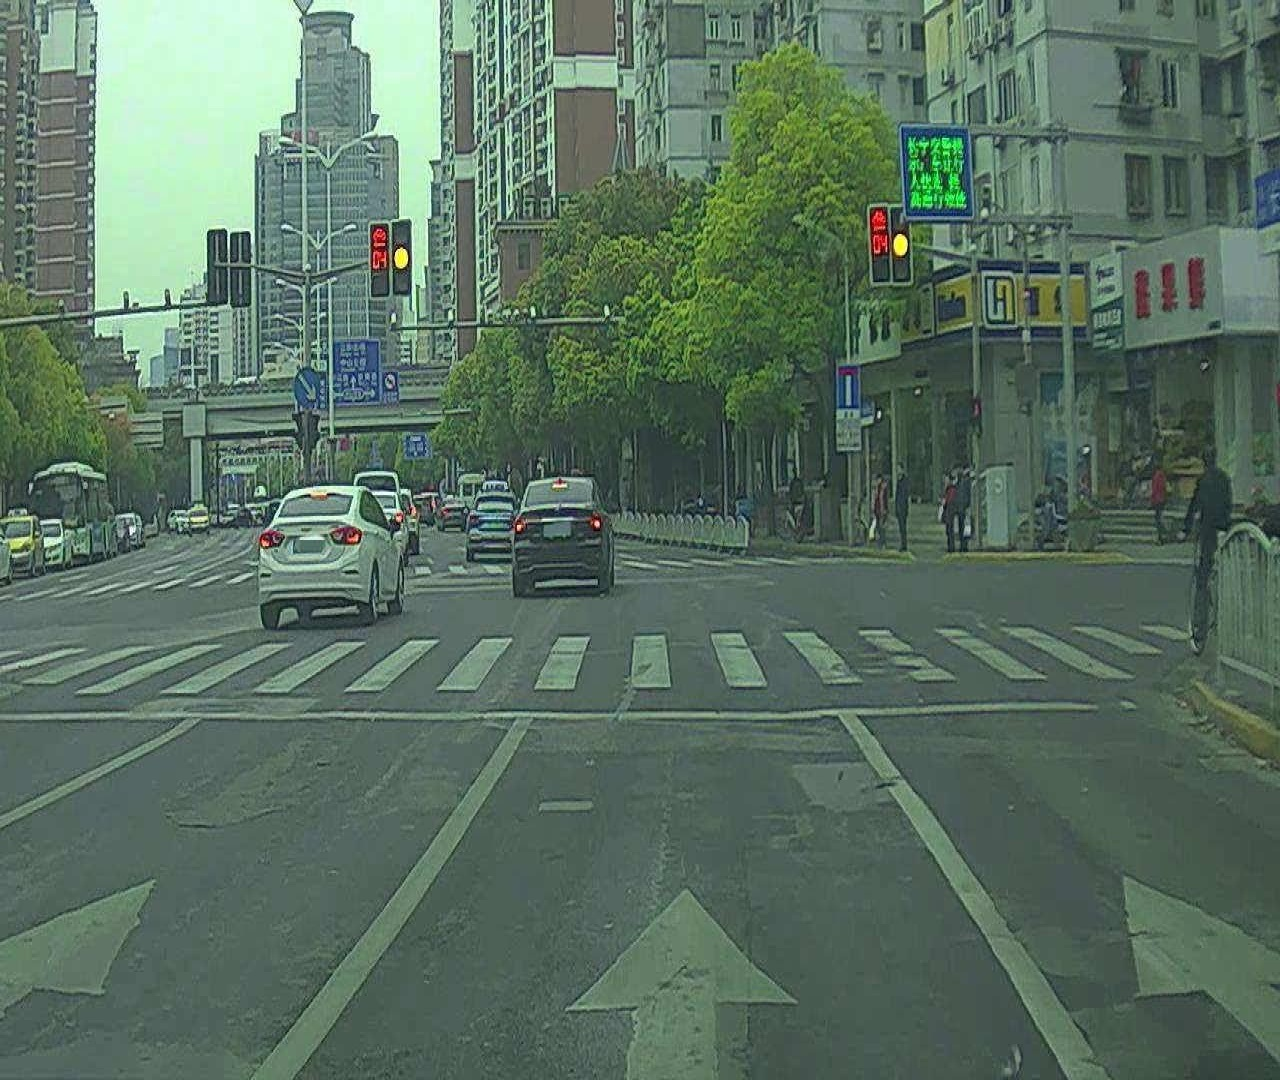red: (870, 205, 892, 285), (368, 225, 391, 300)
yellow: (389, 216, 412, 294), (891, 207, 913, 282)
